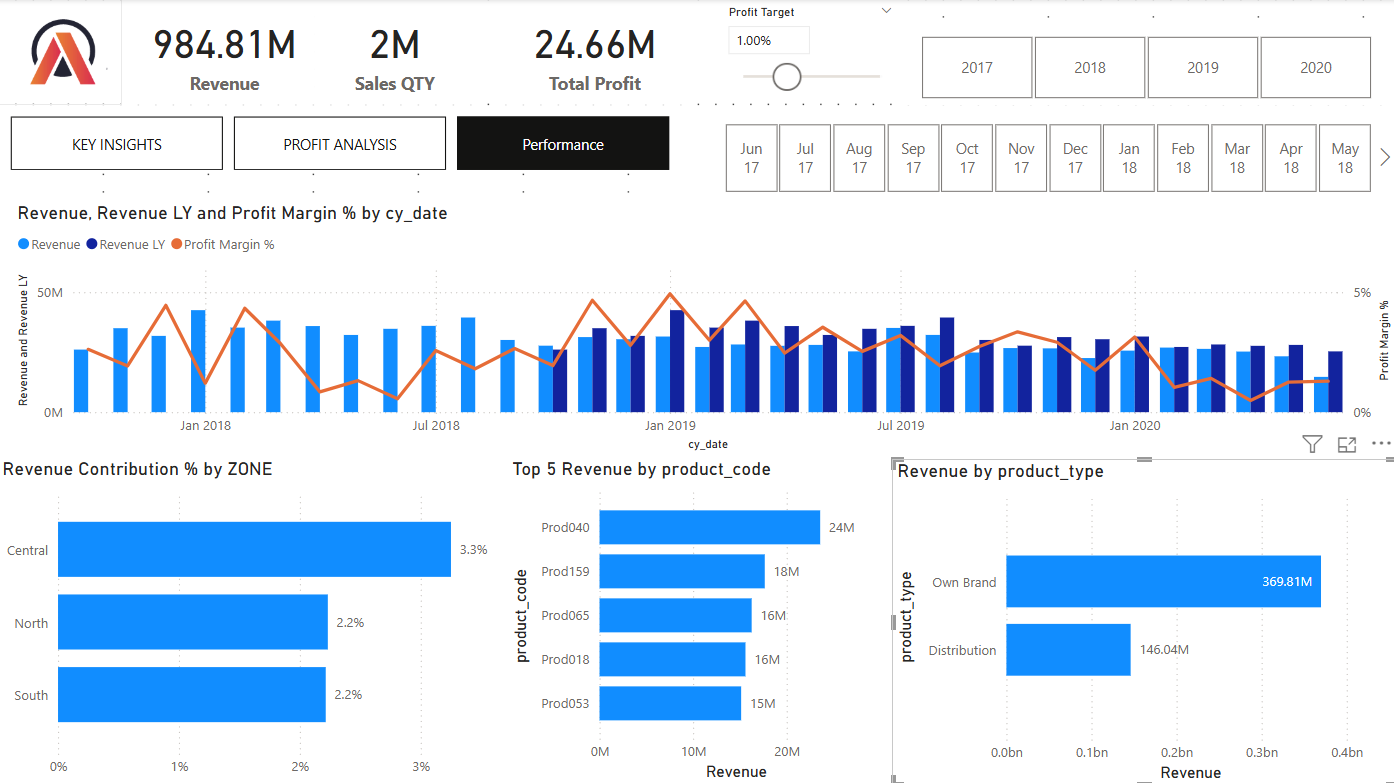

Layout of this report page (visuals, bound fields, positions):
{"tool":"powerbi","page":{"name":"PERFORMANCE INSIGHTS","canvas":[1280,720],"ordinal":2},"visuals":[{"type":"card","fields":{"Values":["Basic Measures.Revenue"]},"box":[125.6,0,164.7,97.2],"z":0},{"type":"card","fields":{"Values":["Basic Measures.Sales QTY"]},"box":[290.4,0,147,97.2],"z":1000},{"type":"image","box":[0,0,113.8,97.2],"z":2000},{"type":"slicer","fields":{"Values":["sales date.cy_date"]},"box":[640,107.9,640,75.9],"z":5000},{"type":"slicer","fields":{"Values":["sales date.year"]},"box":[819,27.3,461,69.9],"z":6000},{"type":"pageNavigator","box":[13,107.9,603.3,49.8],"z":8000},{"type":"card","fields":{"Values":["Basic Measures.Total Profit"]},"box":[453.9,0,186.1,97.2],"z":9000},{"type":"clusteredBarChart","title":"Revenue Contribution % by ZONE","fields":{"Y":["Basic Measures.Profit Margin %"],"Category":["sales markets.zone","sales markets.markets_name"]},"box":[0,419.7,466.5,300.3],"z":10000},{"type":"slicer","fields":{"Values":["Profit Target.Profit Target"]},"box":[656,0,174.8,88.6],"z":11001},{"type":"lineClusteredColumnComboChart","fields":{"Category":["sales date.cy_date"],"Y":["Basic Measures.Revenue","Basic Measures.Revenue LY"],"Y2":["Basic Measures.Profit Margin %"]},"box":[13.5,184.6,1266.5,232.6],"z":11002},{"type":"clusteredBarChart","title":"Top 5 Revenue by product_code","fields":{"Y":["Basic Measures.Revenue"],"Category":["sales products.product_code"]},"box":[466.5,419.7,352,300.3],"z":11003},{"type":"clusteredBarChart","fields":{"Y":["Basic Measures.Revenue"],"Category":["sales products.product_type"]},"box":[818,420,462,300],"z":11004}]}

Visuals, with their boxes in screenshot pixels (x1, y1, x2, y2), scaled from the page's 1280x720 canvas onto the 1394x783 screenshot:
card - Basic Measures.Revenue: (137, 0, 316, 106)
card - Basic Measures.Sales QTY: (316, 0, 476, 106)
image: (0, 0, 124, 106)
slicer - sales date.cy_date: (697, 117, 1393, 200)
slicer - sales date.year: (892, 30, 1393, 106)
pageNavigator: (14, 117, 671, 171)
card - Basic Measures.Total Profit: (494, 0, 697, 106)
"Revenue Contribution % by ZONE" clusteredBarChart: (0, 456, 508, 782)
slicer - Profit Target.Profit Target: (714, 0, 905, 96)
lineClusteredColumnComboChart - sales date.cy_date x Basic Measures.Revenue: (15, 201, 1393, 454)
"Top 5 Revenue by product_code" clusteredBarChart: (508, 456, 891, 782)
clusteredBarChart - Basic Measures.Revenue x sales products.product_type: (891, 457, 1393, 782)
